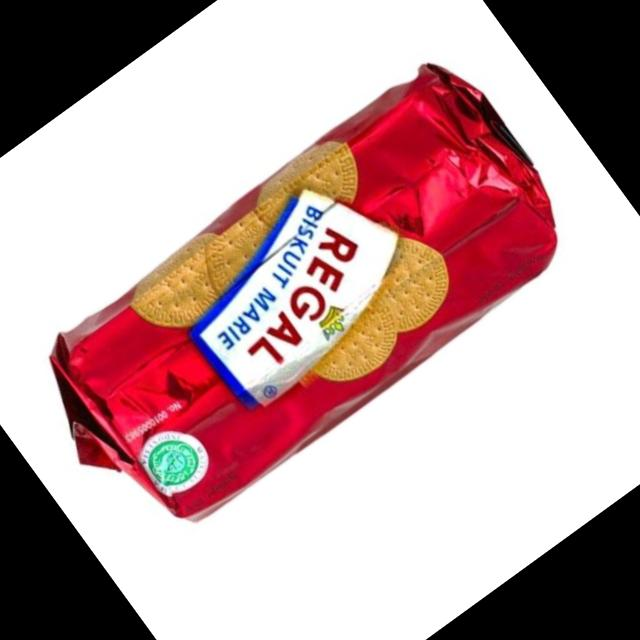KemasanPlastik: (8, 42, 593, 562)
